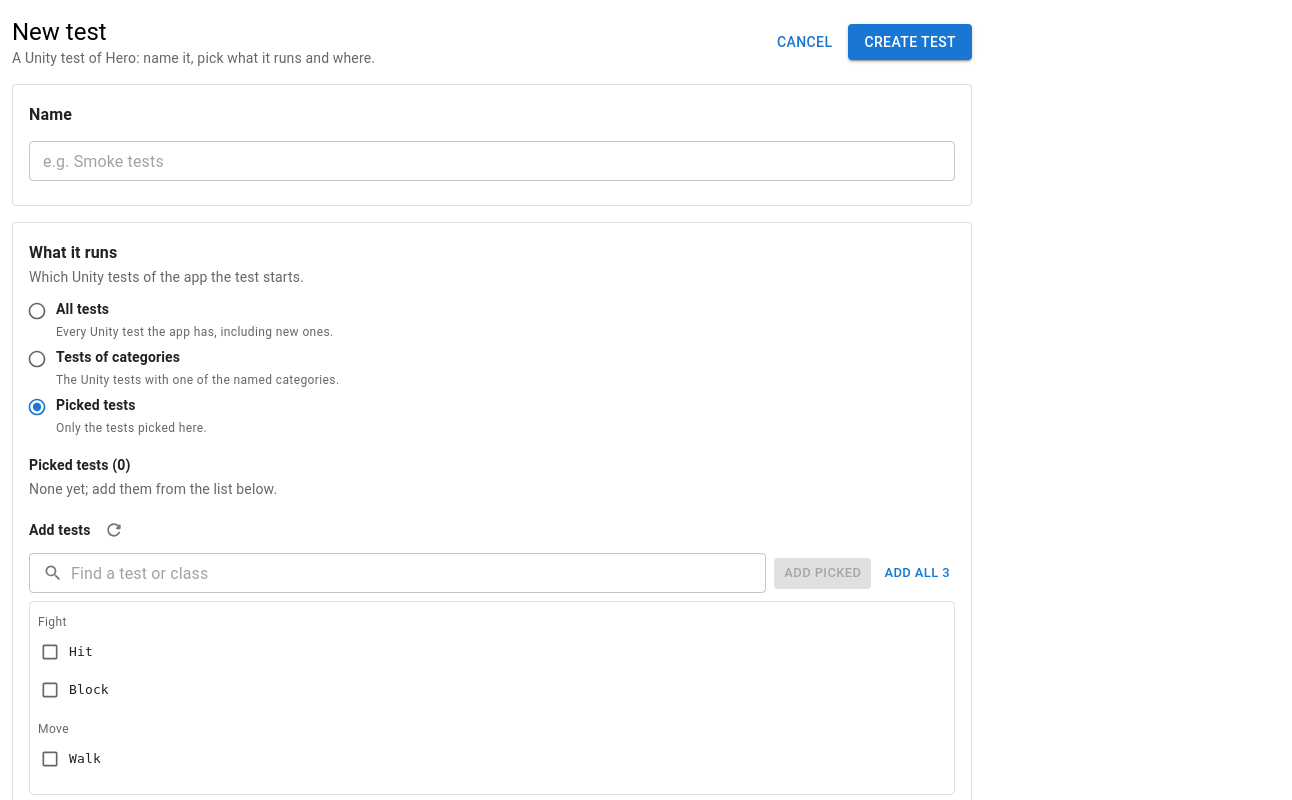
Test: TestPicker with the Unity editor (more) › removes a picked test again and groups the picked by class
The image size is (1292, 800).
Earlier steps of the test are not shown.
Click the button "Add all 3".
click(917, 573)  # box x1=879 y1=558 x2=955 y2=589
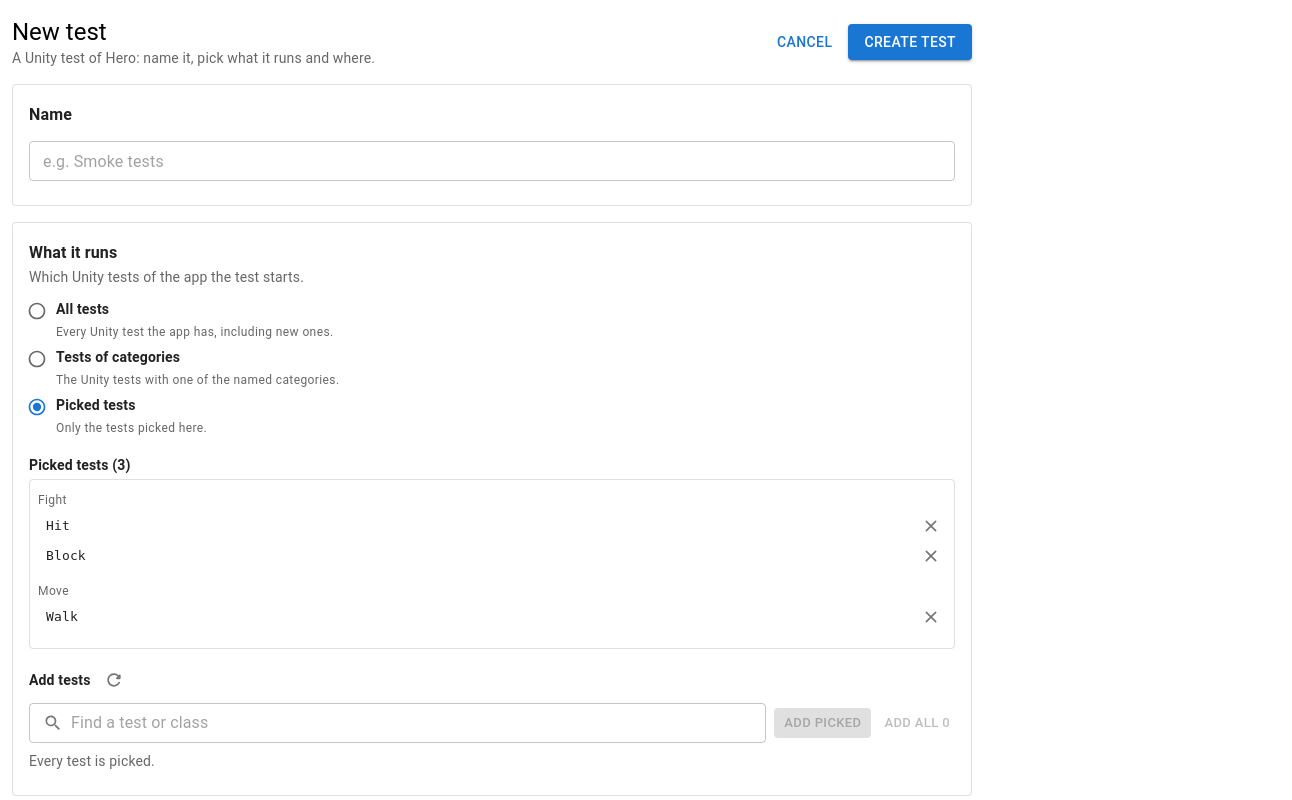
Expected: the text "Fight" is shown, x1=38 y1=493 x2=67 y2=507
Click the button named "Remove Hit".
click(931, 526)  # box x1=916 y1=511 x2=946 y2=541
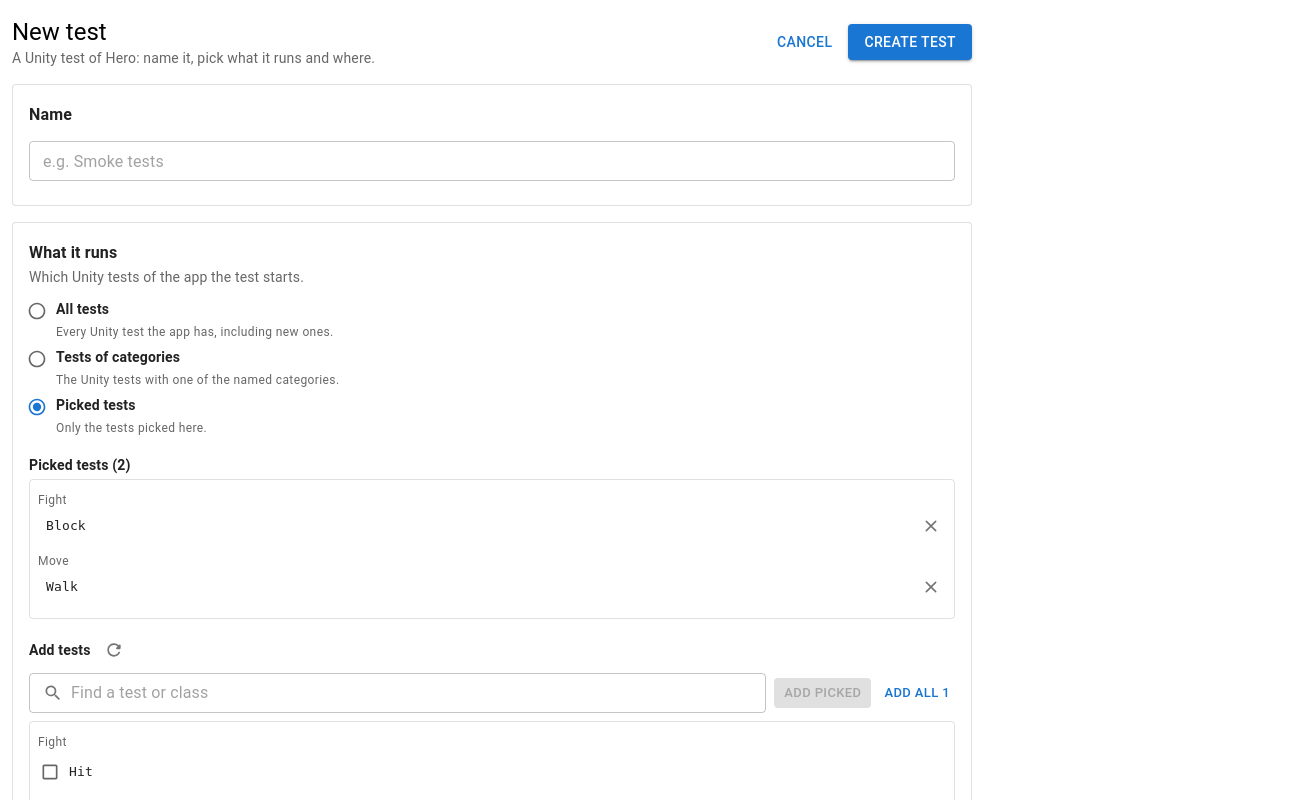
Expected: the text "Picked tests (2)" is shown, x1=29 y1=457 x2=131 y2=473
Expected: the checkbox labelled "Hit" is shown, x1=40 y1=762 x2=93 y2=782
